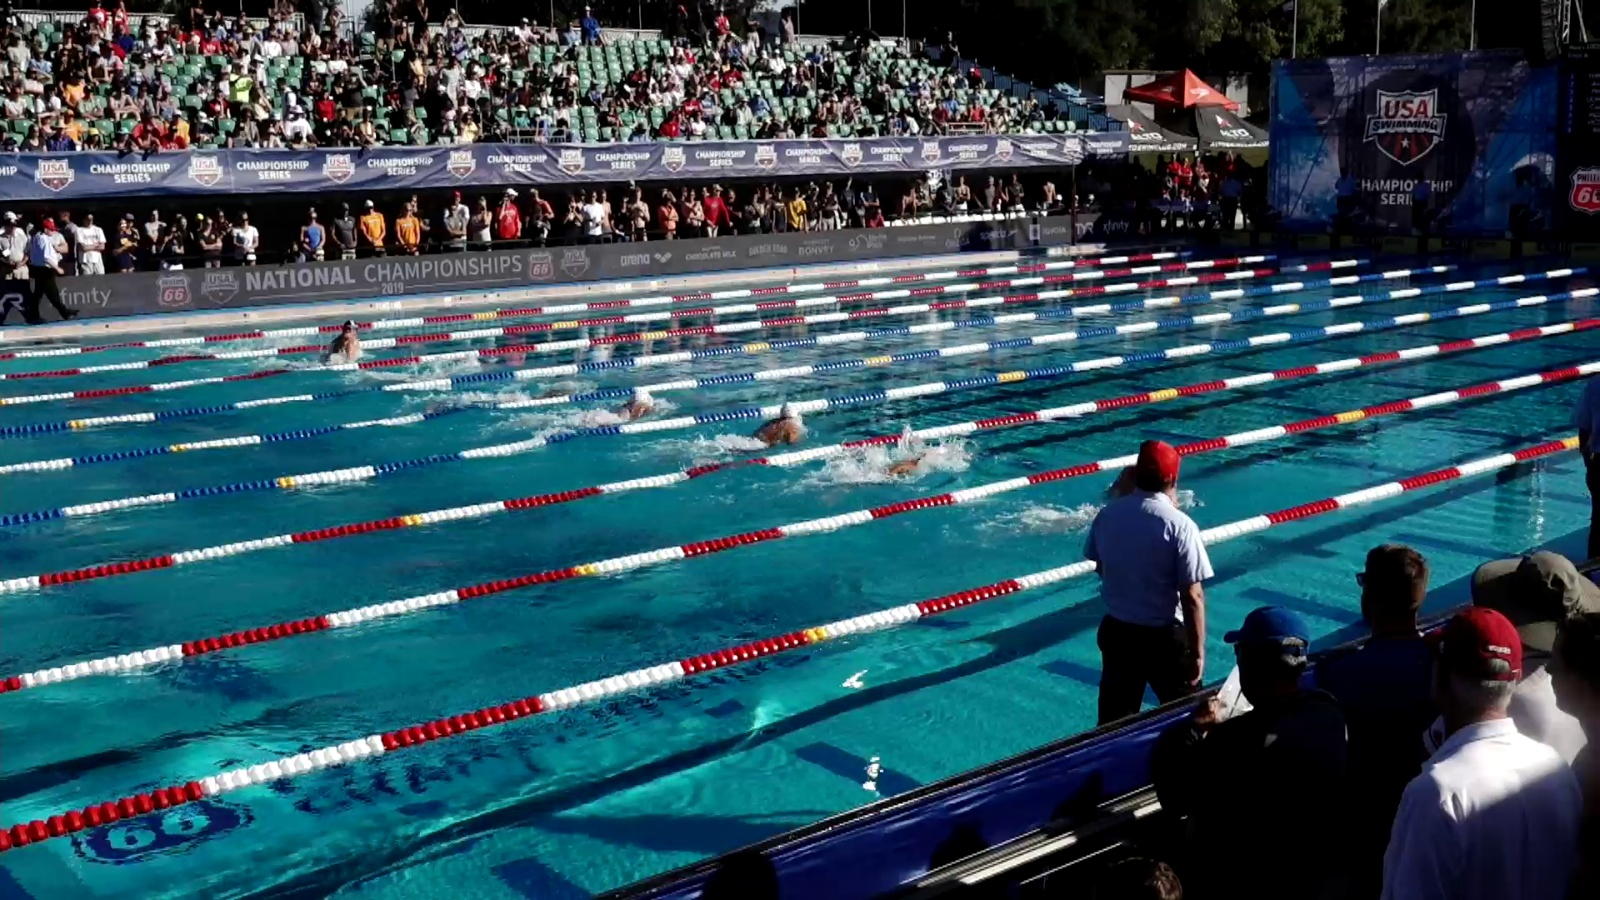swimmerw: (1023, 478, 1189, 546), (692, 402, 808, 470), (554, 393, 669, 438), (846, 449, 956, 493), (462, 374, 595, 409), (277, 321, 364, 373), (389, 359, 491, 392), (173, 338, 291, 362)
